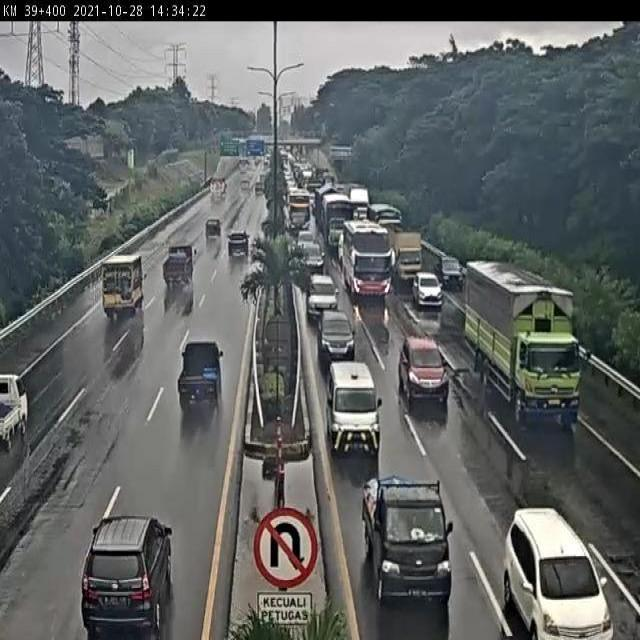big bus: (340, 218, 393, 298)
big truck: (465, 259, 583, 420), (387, 224, 424, 284)
car: (503, 506, 616, 640), (83, 512, 179, 639), (360, 472, 453, 601), (325, 358, 381, 458), (398, 331, 450, 404), (177, 340, 225, 408), (320, 308, 354, 368), (306, 274, 335, 318), (412, 268, 443, 305), (437, 255, 466, 293), (301, 244, 325, 275), (229, 228, 252, 257)
small truck: (99, 248, 146, 316), (163, 241, 198, 292)
